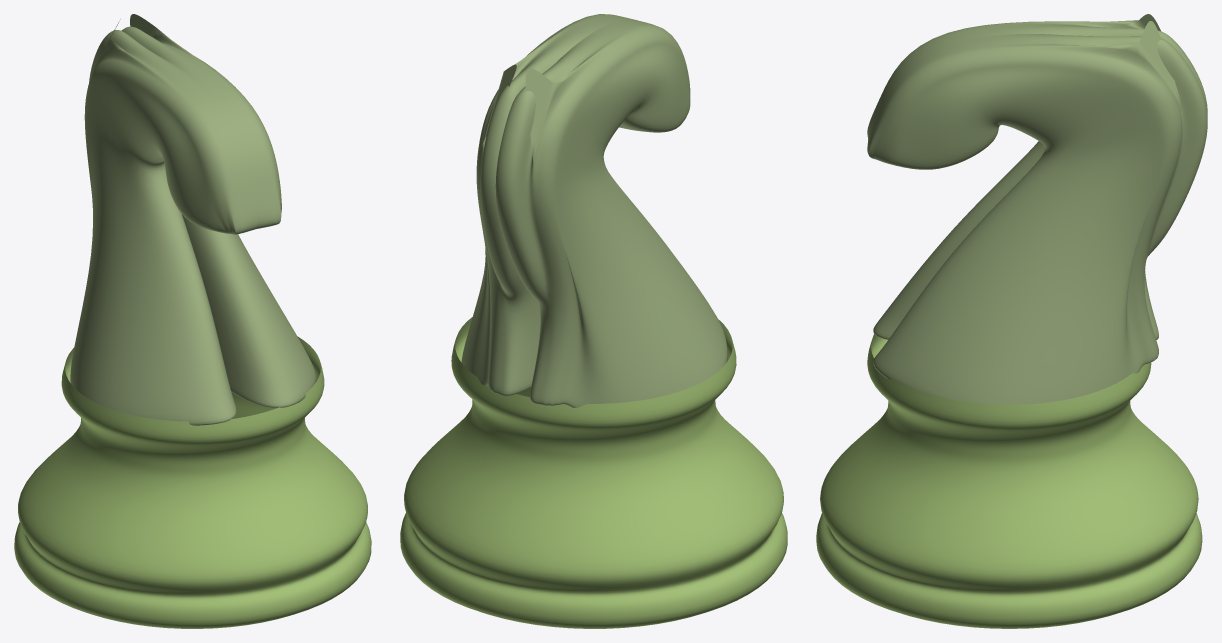
Rendered from knight2.gltf.
The picture shows the model from 3 angles, left to right: view 1: azimuth 30°, elevation 25°; view 2: azimuth 150°, elevation 25°; view 3: azimuth 270°, elevation 25°; orthographic projection. The views are drawn at different scales.
Parts seen in each view (by area): view 1: Plane, Vert.023; view 2: Vert.023, Plane; view 3: Plane, Vert.023.
Part boxes in pixels (<box>): Plane: <box>70,14,316,425</box>; Vert.023: <box>14,336,371,628</box>; Vert.023: <box>400,317,787,628</box>; Plane: <box>461,14,727,407</box>; Plane: <box>867,14,1207,404</box>; Vert.023: <box>816,334,1202,628</box>.
Size of the model in its own units: 11.9 by 18.5 by 12.07.
